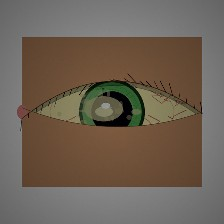corneal_ulcer: (72, 84, 135, 134)
